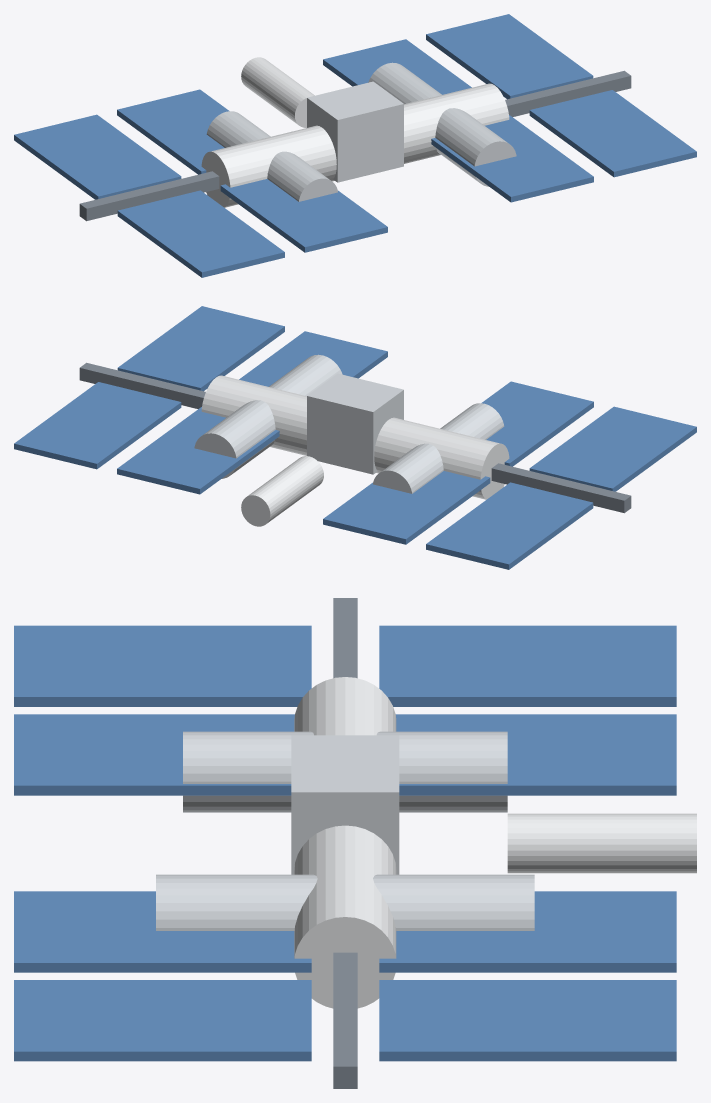
The model's file is iss.glb.
The picture shows the model from 3 angles, top to bottom: view 1: azimuth 30°, elevation 25°; view 2: azimuth 150°, elevation 25°; view 3: azimuth 270°, elevation 25°; orthographic projection. The views are drawn at different scales.
Parts seen in each view (by area): view 1: iss_0, iss_10, iss_4, iss_5, iss_11, iss_12, iss_6, iss_8, iss_7, iss_3, iss_1, iss_9 (+2 smaller); view 2: iss_0, iss_11, iss_5, iss_4, iss_10, iss_12, iss_7, iss_9, iss_6, iss_3, iss_1, iss_8 (+2 smaller); view 3: iss_10, iss_11, iss_5, iss_4, iss_0, iss_9, iss_8, iss_7, iss_6, iss_1, iss_2, iss_13 (+2 smaller).
Part boxes in pixels (x1,y1,x2,y2): iss_0: (201,83,509,207); iss_10: (529,90,696,177); iss_4: (117,190,284,277); iss_5: (14,114,181,199); iss_11: (426,14,593,99); iss_12: (307,81,403,182); iss_6: (220,179,387,252); iss_8: (431,115,593,202); iss_7: (117,89,229,174); iss_3: (79,70,631,221); iss_1: (368,62,516,186); iss_9: (323,39,471,94); iss_0: (201,375,509,499); iss_11: (14,382,181,469); iss_5: (426,482,593,569); iss_4: (529,406,696,491); iss_10: (117,306,284,391); iss_12: (307,373,403,474); iss_7: (323,471,490,544); iss_9: (117,407,279,494); iss_6: (481,381,593,466); iss_3: (79,362,631,513); iss_1: (194,354,342,478); iss_8: (239,331,387,386); iss_10: (14,980,311,1061); iss_11: (379,980,676,1061); iss_5: (379,625,676,706); iss_4: (14,625,311,706); iss_0: (294,677,396,1008); iss_9: (379,891,676,972); iss_8: (14,891,311,972); iss_7: (395,714,676,795); iss_6: (14,714,294,795); iss_1: (156,874,534,930); iss_2: (183,731,507,812); iss_13: (507,813,696,873).
Size of the model in its own units: 8.2 by 1.03 by 5.05.
